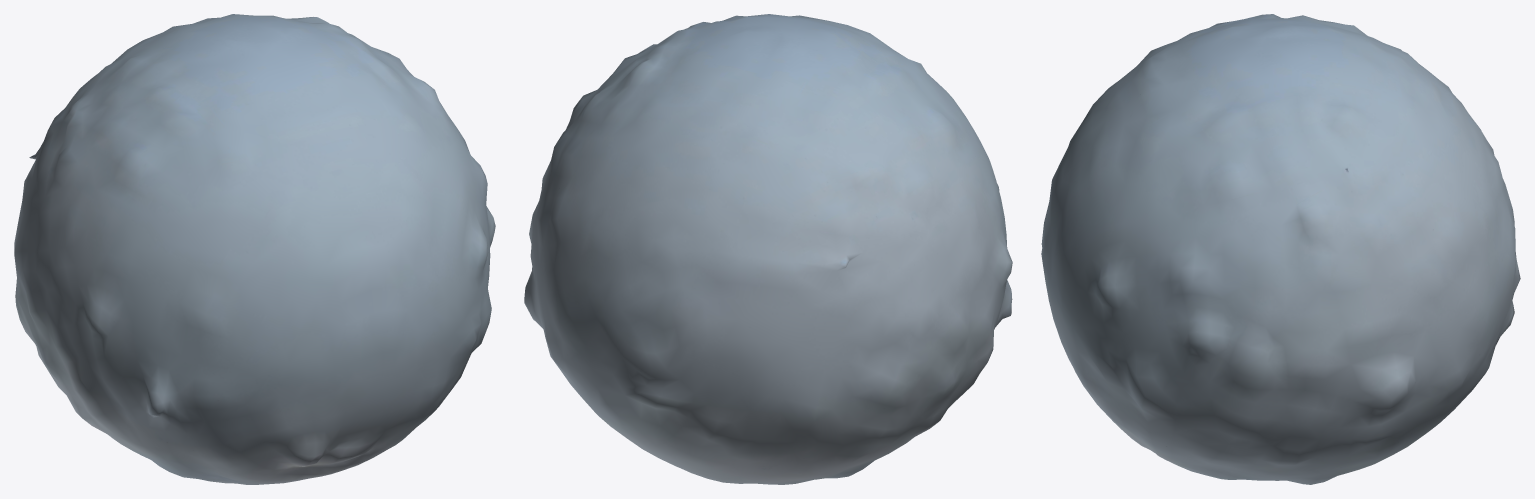
File: Snowball.fbx
3 views of the same model, side by side, from view 1: azimuth 30°, elevation 25°; view 2: azimuth 150°, elevation 25°; view 3: azimuth 270°, elevation 25° (orthographic).
Visible parts, largest first — view 1: tripo_node_62ad407d; view 2: tripo_node_62ad407d; view 3: tripo_node_62ad407d.
Boxes of the visible parts, x1,y1,x2,y2 form: tripo_node_62ad407d: (14, 14, 495, 484); tripo_node_62ad407d: (524, 14, 1012, 484); tripo_node_62ad407d: (1041, 14, 1520, 484).
Bounding box in the file's own units: 99.75 × 95.31 × 99.72.
Materials: 1 (1 with a texture image).
